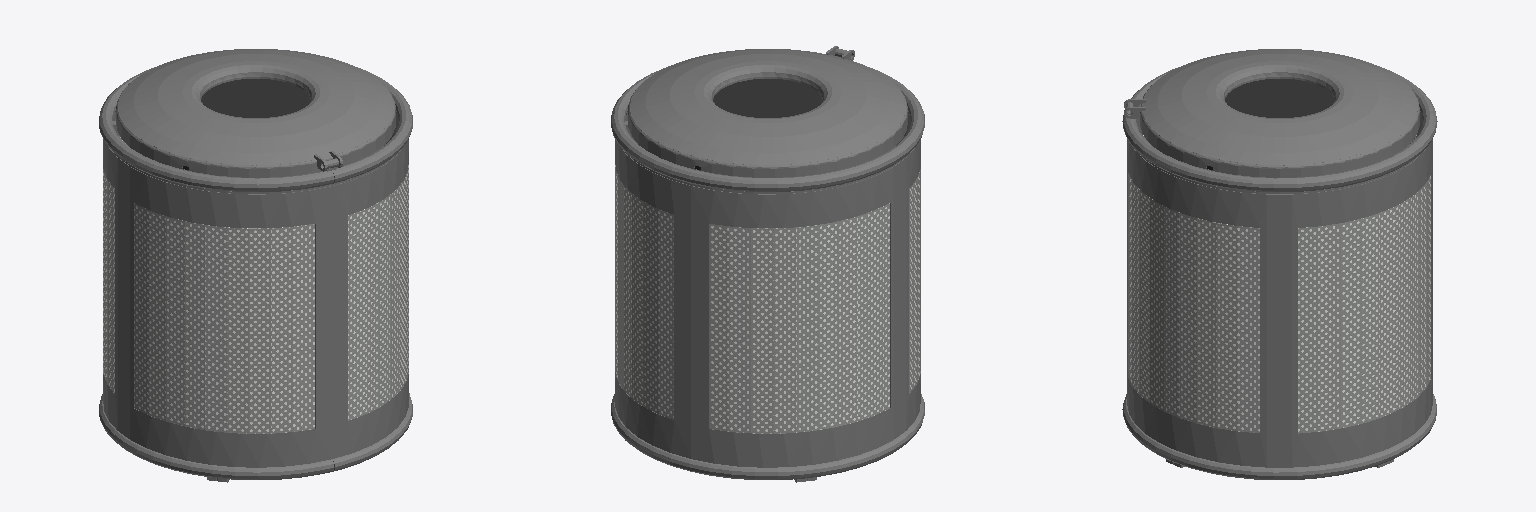
3 renders of one model, left to right at view 1: azimuth 30°, elevation 25°; view 2: azimuth 150°, elevation 25°; view 3: azimuth 270°, elevation 25°, orthographic.
Visible parts, largest first — view 1: mesh1.008_mesh1-geometry, mesh3.002_mesh3-geometry, mesh9.002_mesh9-geometry, mesh1.005_mesh1-geometry, mesh65.002_mesh65-geometry, mesh64.002_mesh64-geometry, mesh96.002_mesh96-geometry, mesh1.007_mesh1-geometry, mesh67.002_mesh67-geometry; view 2: mesh1.007_mesh1-geometry, mesh3.002_mesh3-geometry, mesh9.002_mesh9-geometry, mesh1.006_mesh1-geometry, mesh65.002_mesh65-geometry, mesh64.002_mesh64-geometry, mesh96.002_mesh96-geometry, mesh1.008_mesh1-geometry, mesh67.002_mesh67-geometry; view 3: mesh3.002_mesh3-geometry, mesh1.006_mesh1-geometry, mesh1.005_mesh1-geometry, mesh9.002_mesh9-geometry, mesh65.002_mesh65-geometry, mesh64.002_mesh64-geometry, mesh96.002_mesh96-geometry, mesh67.002_mesh67-geometry.
Boxes of the visible parts, x1=… form: mesh1.008_mesh1-geometry: x1=134, y1=203, x2=314, y2=433; mesh3.002_mesh3-geometry: x1=103, y1=122, x2=408, y2=467; mesh9.002_mesh9-geometry: x1=116, y1=49, x2=395, y2=177; mesh1.005_mesh1-geometry: x1=348, y1=165, x2=408, y2=420; mesh65.002_mesh65-geometry: x1=99, y1=67, x2=412, y2=191; mesh64.002_mesh64-geometry: x1=99, y1=393, x2=412, y2=479; mesh96.002_mesh96-geometry: x1=183, y1=79, x2=310, y2=169; mesh1.007_mesh1-geometry: x1=103, y1=136, x2=126, y2=393; mesh67.002_mesh67-geometry: x1=113, y1=112, x2=398, y2=193; mesh1.007_mesh1-geometry: x1=710, y1=203, x2=889, y2=433; mesh3.002_mesh3-geometry: x1=615, y1=122, x2=920, y2=467; mesh9.002_mesh9-geometry: x1=628, y1=49, x2=907, y2=177; mesh1.006_mesh1-geometry: x1=615, y1=165, x2=673, y2=419; mesh65.002_mesh65-geometry: x1=611, y1=66, x2=924, y2=191; mesh64.002_mesh64-geometry: x1=611, y1=394, x2=924, y2=479; mesh96.002_mesh96-geometry: x1=695, y1=79, x2=822, y2=169; mesh1.008_mesh1-geometry: x1=896, y1=136, x2=920, y2=393; mesh67.002_mesh67-geometry: x1=625, y1=112, x2=910, y2=193; mesh3.002_mesh3-geometry: x1=1127, y1=122, x2=1432, y2=467; mesh1.006_mesh1-geometry: x1=1298, y1=175, x2=1430, y2=432; mesh1.005_mesh1-geometry: x1=1128, y1=173, x2=1259, y2=432; mesh9.002_mesh9-geometry: x1=1140, y1=49, x2=1419, y2=177; mesh65.002_mesh65-geometry: x1=1122, y1=66, x2=1437, y2=191; mesh64.002_mesh64-geometry: x1=1122, y1=394, x2=1436, y2=479; mesh96.002_mesh96-geometry: x1=1207, y1=79, x2=1334, y2=169; mesh67.002_mesh67-geometry: x1=1136, y1=112, x2=1423, y2=193.
Bounding box in the file's own units: 0.5485 × 0.6308 × 0.5489.
Materials: 3 (1 with a texture image).